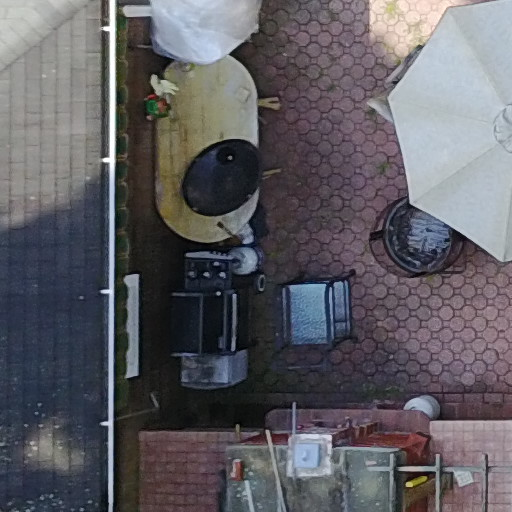umbrella: (390, 4, 512, 273)
